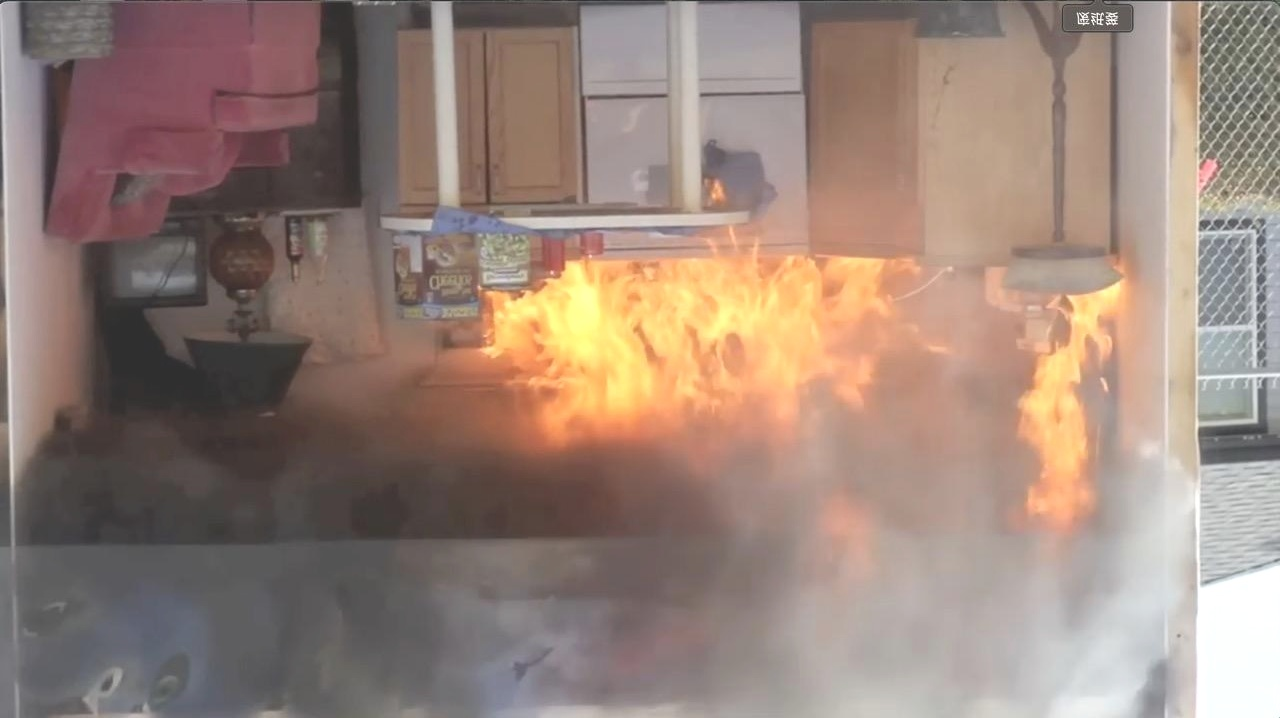fire: (496, 210, 1135, 487)
smoke: (12, 510, 1092, 713)
